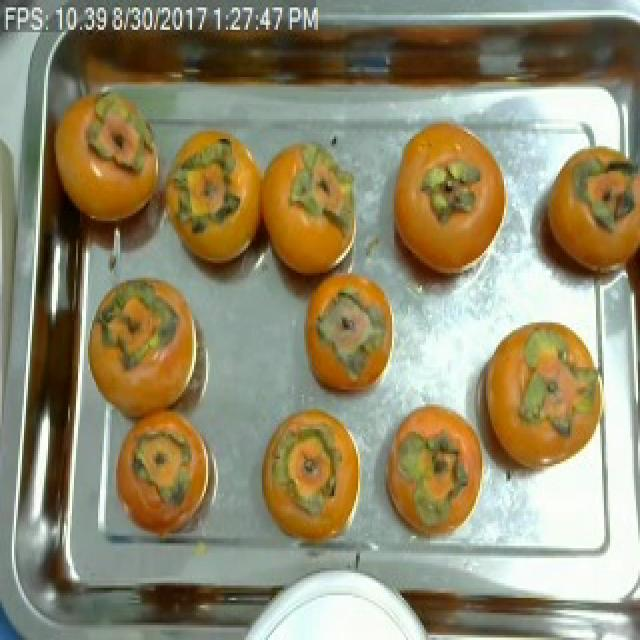Fruit: (376, 104, 524, 308), (462, 305, 606, 494), (86, 260, 226, 442), (248, 394, 374, 560), (50, 72, 172, 243), (524, 132, 640, 308), (372, 390, 496, 553), (98, 404, 226, 556), (292, 258, 404, 414)
